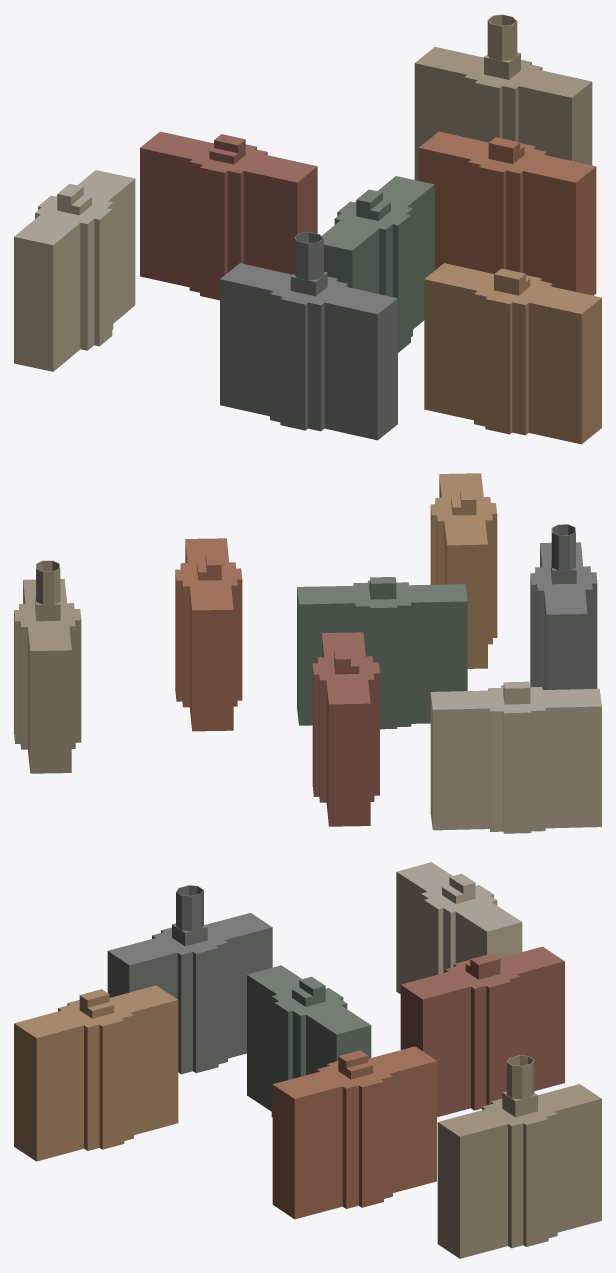
Rendered from tile-8_-3.glb.
3 views of the same model, one above another, from view 1: azimuth 30°, elevation 25°; view 2: azimuth 150°, elevation 25°; view 3: azimuth 270°, elevation 25° (orthographic). The views are drawn at different scales.
Parts seen in each view (by area): view 1: wall, roof; view 2: wall, roof; view 3: wall, roof.
Part boxes in pixels (x1=…): wall: x1=14, y1=15, x2=601, y2=444; roof: x1=14, y1=14, x2=601, y2=314; wall: x1=14, y1=476, x2=601, y2=833; roof: x1=14, y1=473, x2=601, y2=713; wall: x1=14, y1=872, x2=601, y2=1258; roof: x1=14, y1=862, x2=601, y2=1136.
Bounding box in the file's own units: 213 × 62.6 × 193.
